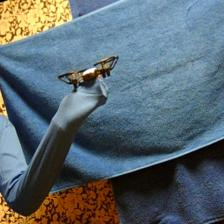drone: (57, 54, 119, 89)
